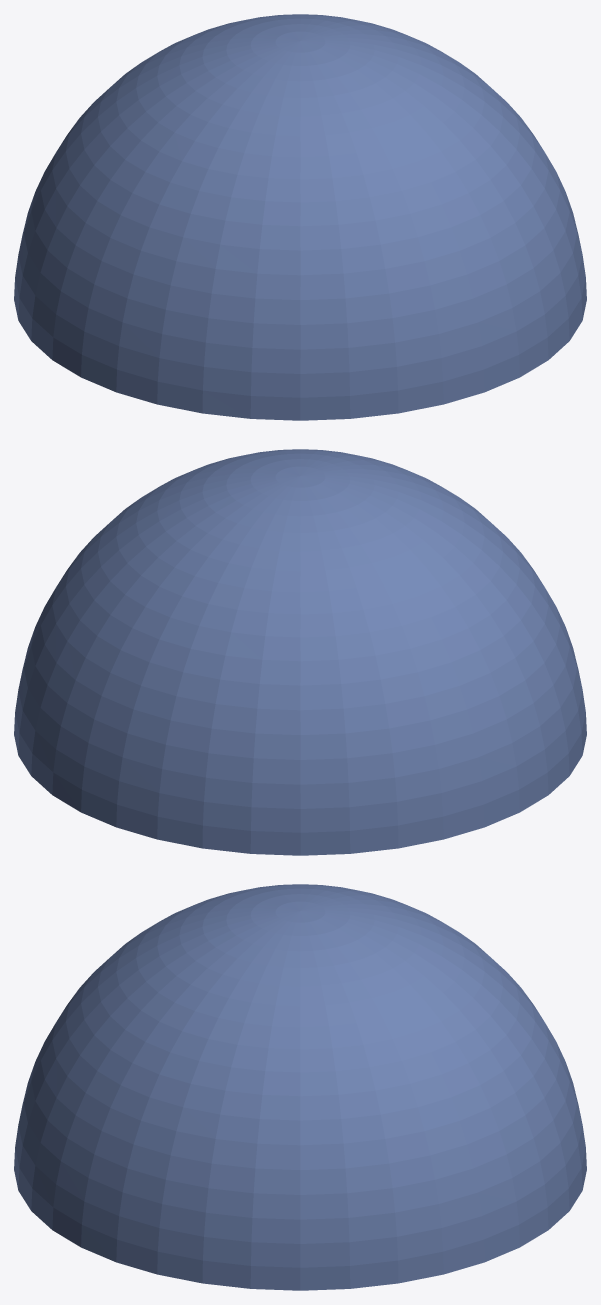
The model's file is BuildingLVL4.glb.
The picture shows the model from 3 angles, top to bottom: view 1: azimuth 30°, elevation 25°; view 2: azimuth 150°, elevation 25°; view 3: azimuth 270°, elevation 25°; orthographic projection.
Parts seen in each view (by area): view 1: Mesh_Mesh_head_geo.001_lambert2SG.001; view 2: Mesh_Mesh_head_geo.001_lambert2SG.001; view 3: Mesh_Mesh_head_geo.001_lambert2SG.001.
Part boxes in pixels (x1,y1,x2,y2): Mesh_Mesh_head_geo.001_lambert2SG.001: [14, 14, 586, 420]; Mesh_Mesh_head_geo.001_lambert2SG.001: [14, 449, 586, 855]; Mesh_Mesh_head_geo.001_lambert2SG.001: [14, 884, 586, 1290].
Bounding box in the file's own units: 46.19 × 23 × 46.19.
